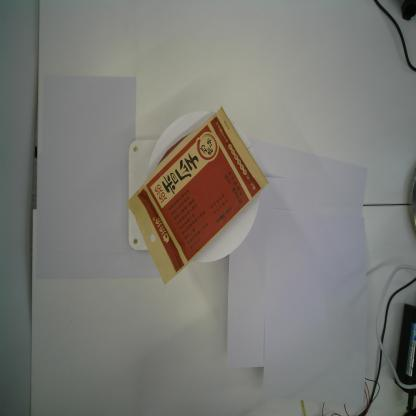Dried Food: (126, 106, 270, 286)
